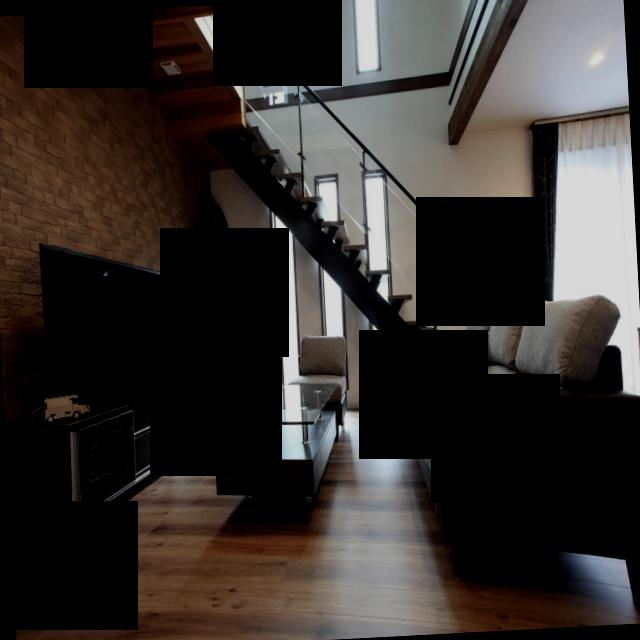vintage chair: (286, 333, 350, 398)
vintage desk: (208, 382, 348, 522)
vintage shelf: (3, 378, 210, 552), (195, 234, 278, 416)
vintage sofa: (395, 291, 640, 576)
